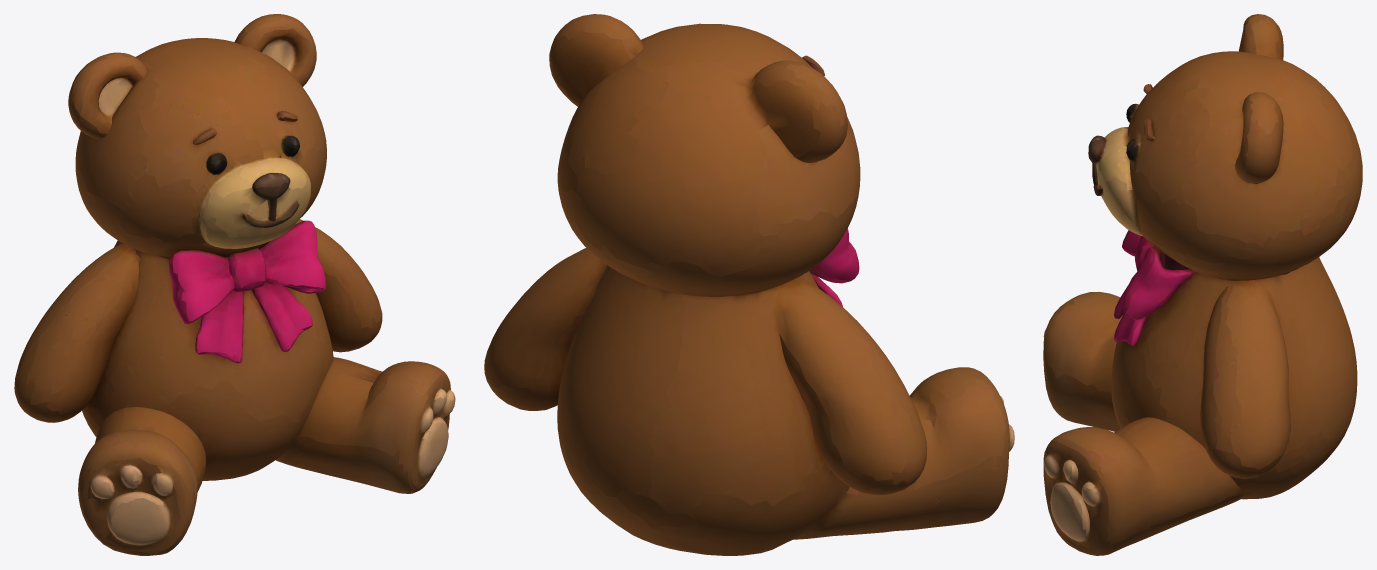
File: x-teddy.glb
The picture shows the model from 3 angles, left to right: view 1: azimuth 30°, elevation 25°; view 2: azimuth 150°, elevation 25°; view 3: azimuth 270°, elevation 25°; orthographic projection. The views are drawn at different scales.
Parts seen in each view (by area): view 1: geometry_0; view 2: geometry_0; view 3: geometry_0.
Part boxes in pixels (left/top/right/bottom): geometry_0: left=14, top=14, right=455, bottom=555; geometry_0: left=484, top=14, right=1014, bottom=555; geometry_0: left=1043, top=14, right=1362, bottom=555.
Bounding box in the file's own units: 0.2555 × 0.28 × 0.1904.
1 material, 1 textured.
